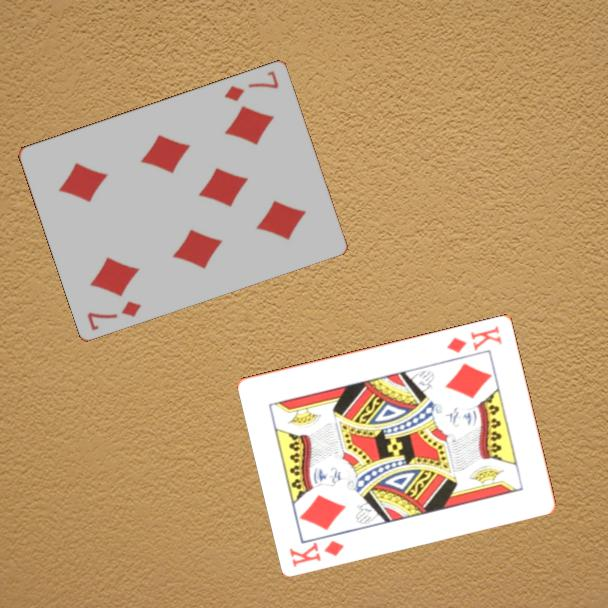d07: (221, 67, 282, 104), (84, 297, 144, 333)
d13: (443, 322, 505, 356), (286, 536, 348, 570)
